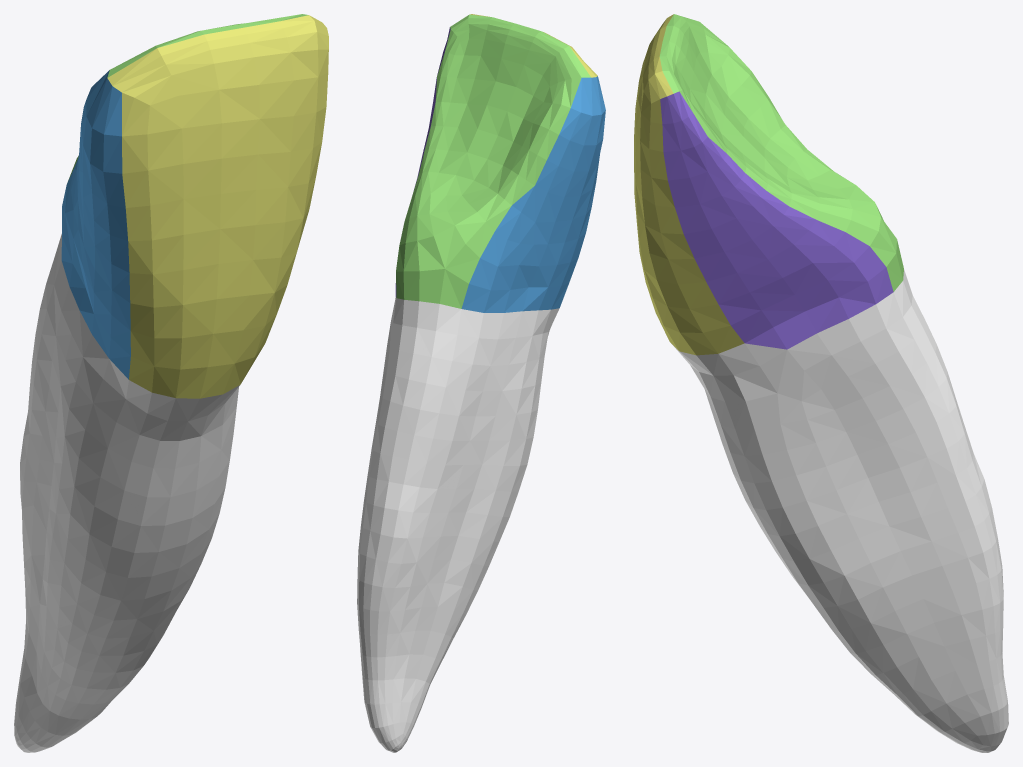
Rendered from tooth_41_annotated.glb.
The picture shows the model from 3 angles, left to right: view 1: azimuth 30°, elevation 25°; view 2: azimuth 150°, elevation 25°; view 3: azimuth 270°, elevation 25°; orthographic projection. The views are drawn at different scales.
Visible parts, largest first — view 1: FDI_41; view 2: FDI_41; view 3: FDI_41.
Part boxes in pixels (x1,y1,x2,y2): FDI_41: (14,14,328,752); FDI_41: (357,14,605,752); FDI_41: (634,14,1008,752).
Size of the model in its own units: 0.00539 by 0.0199 by 0.00938.
